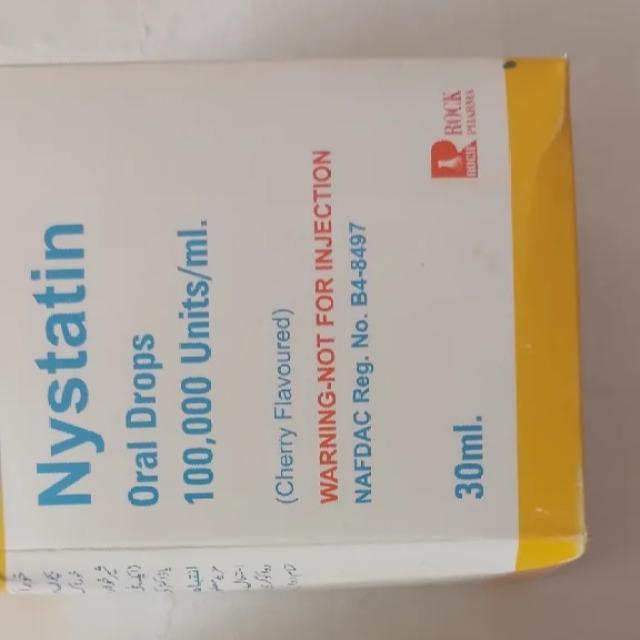drug-name: (26, 216, 113, 518)
